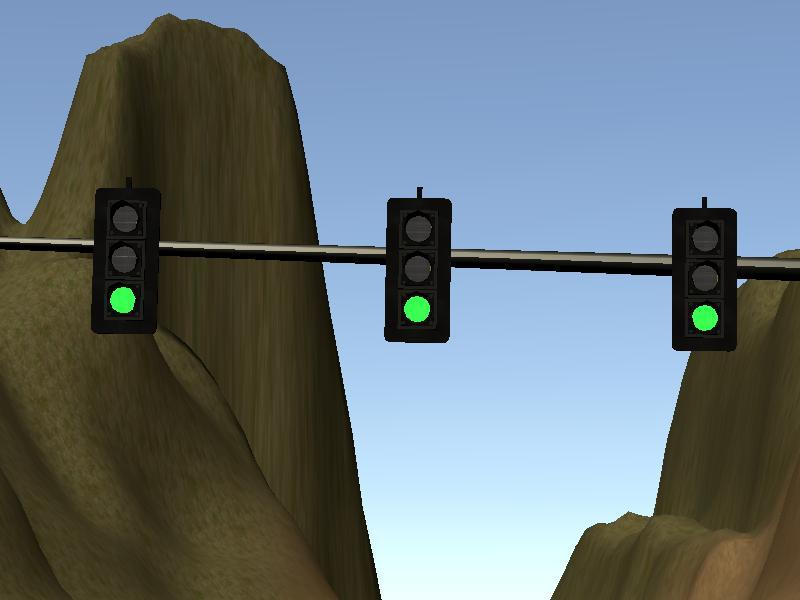Green: (93, 187, 159, 334), (671, 207, 737, 354), (385, 198, 451, 345)
